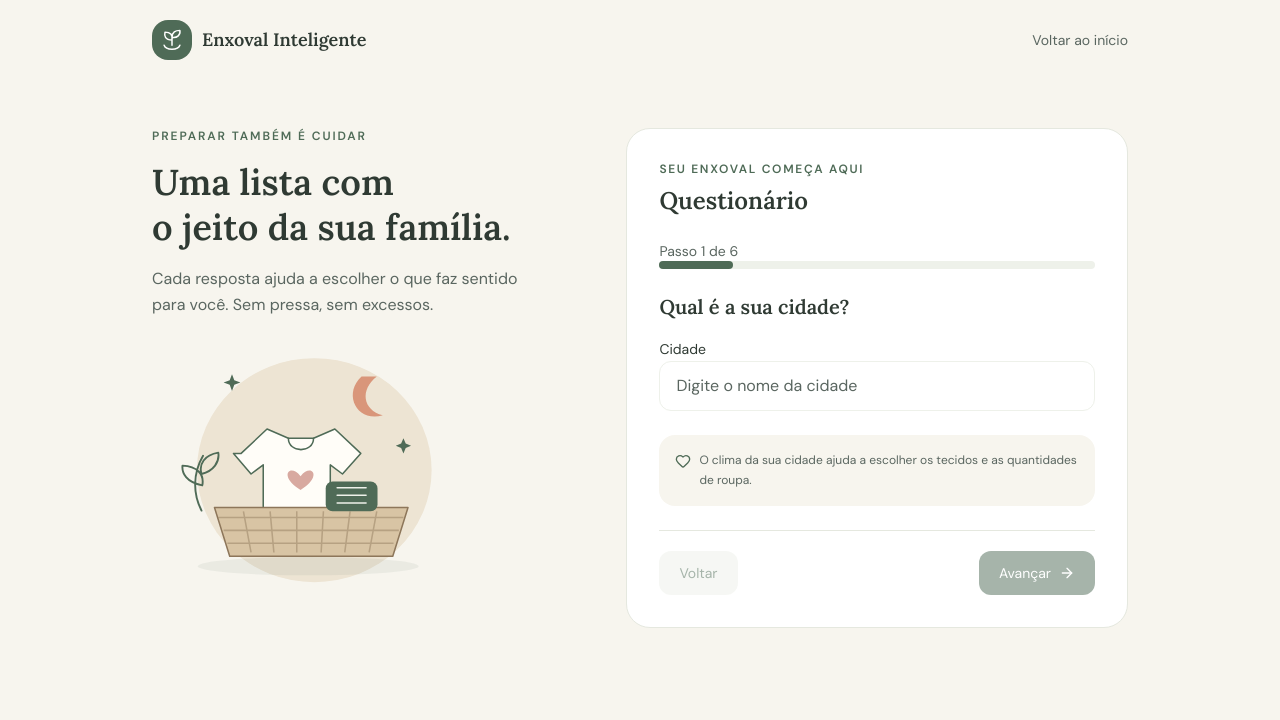
Test: Questionario › preserva a cidade escolhida ao avançar e voltar
Type "curitiba" into the field labelled "Cidade" at [877, 386], box [659,361,1095,411]
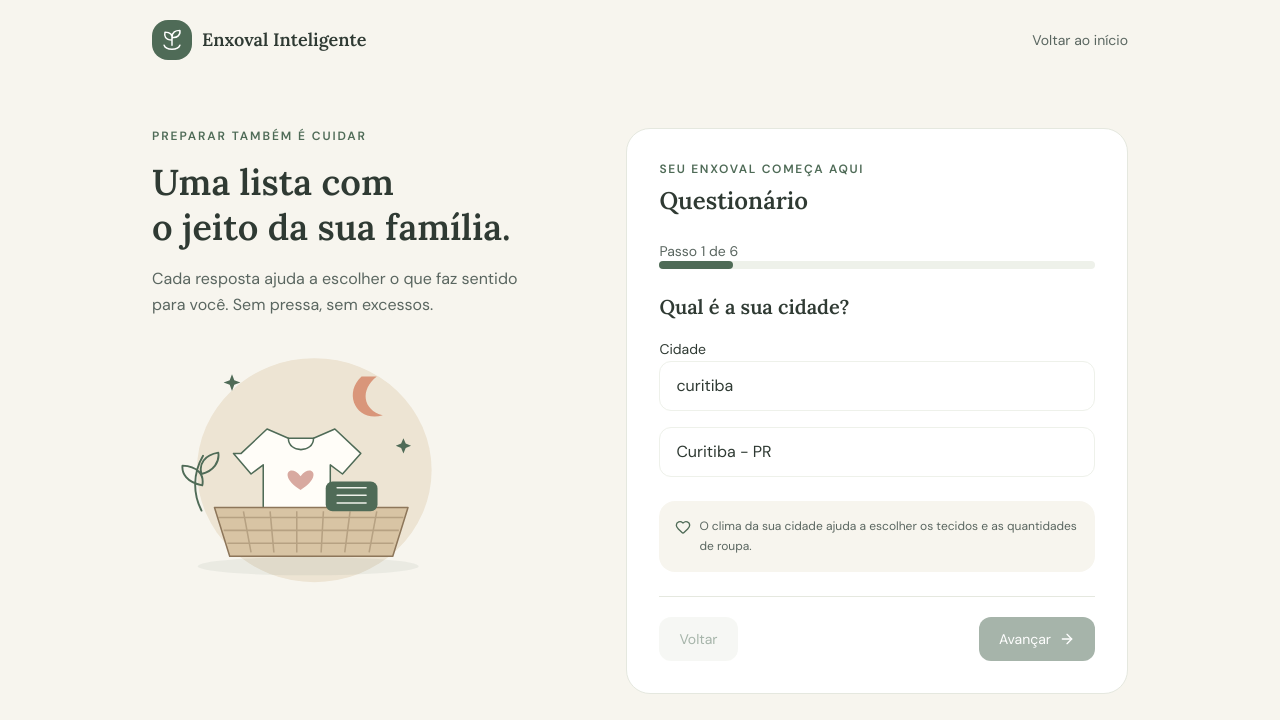
Now the button "Curitiba - PR" is shown
Click the button "Curitiba - PR" at [706, 452], box [660,428,1094,476]
(page scrolled)
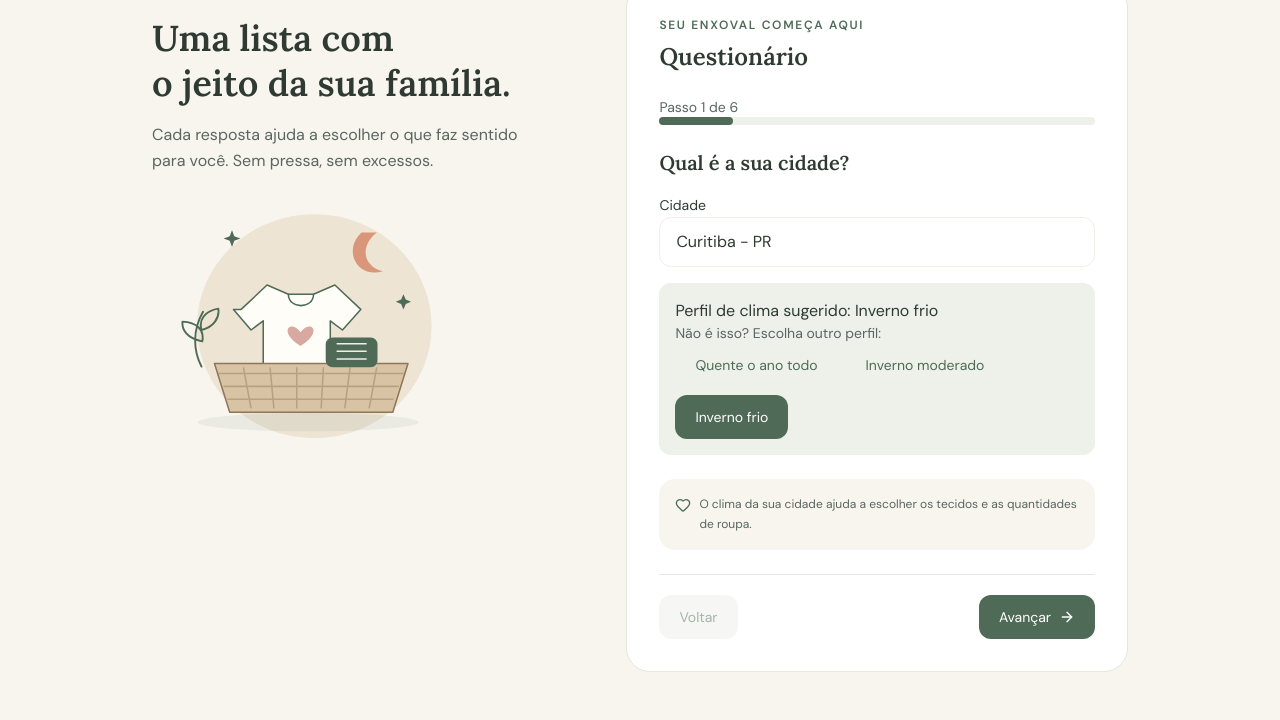
Click the button "Avançar" at [1037, 617], box [979,595,1095,639]
(page scrolled)
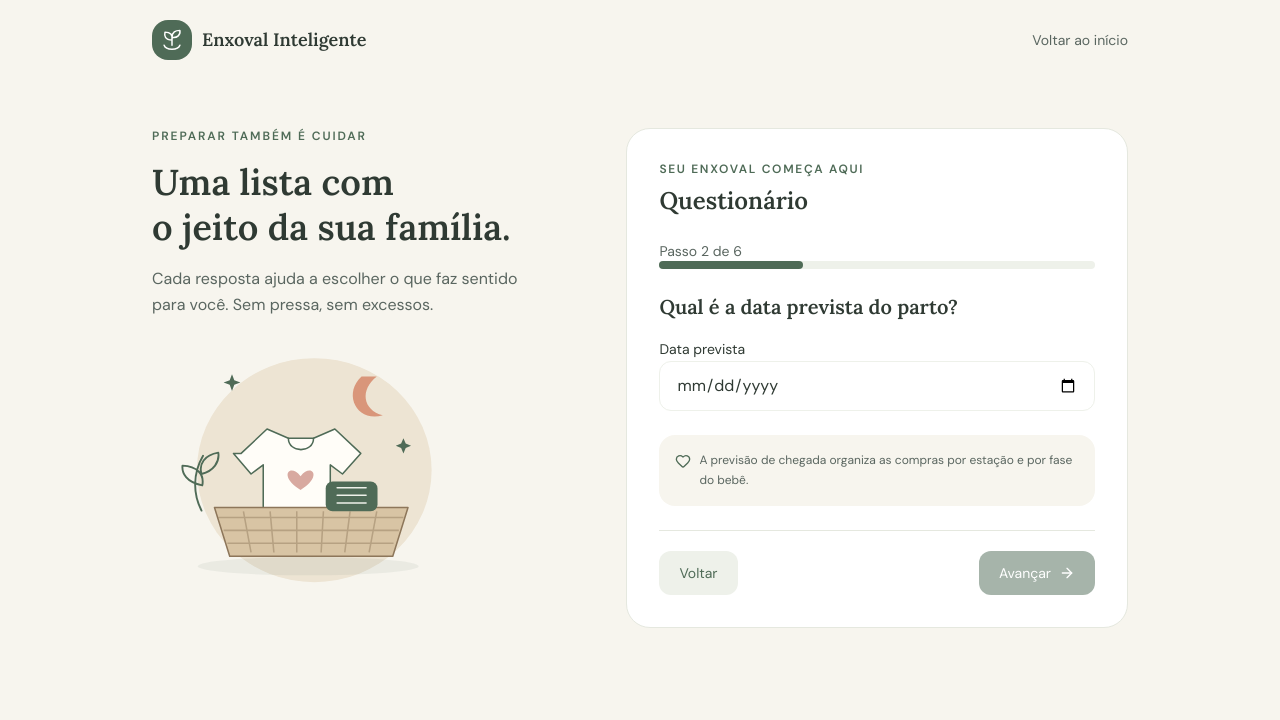
Now the text "Passo 2 de 6" is shown, box [659,242,742,260]
Click the button "Voltar" at [698, 573], box [659,551,738,595]
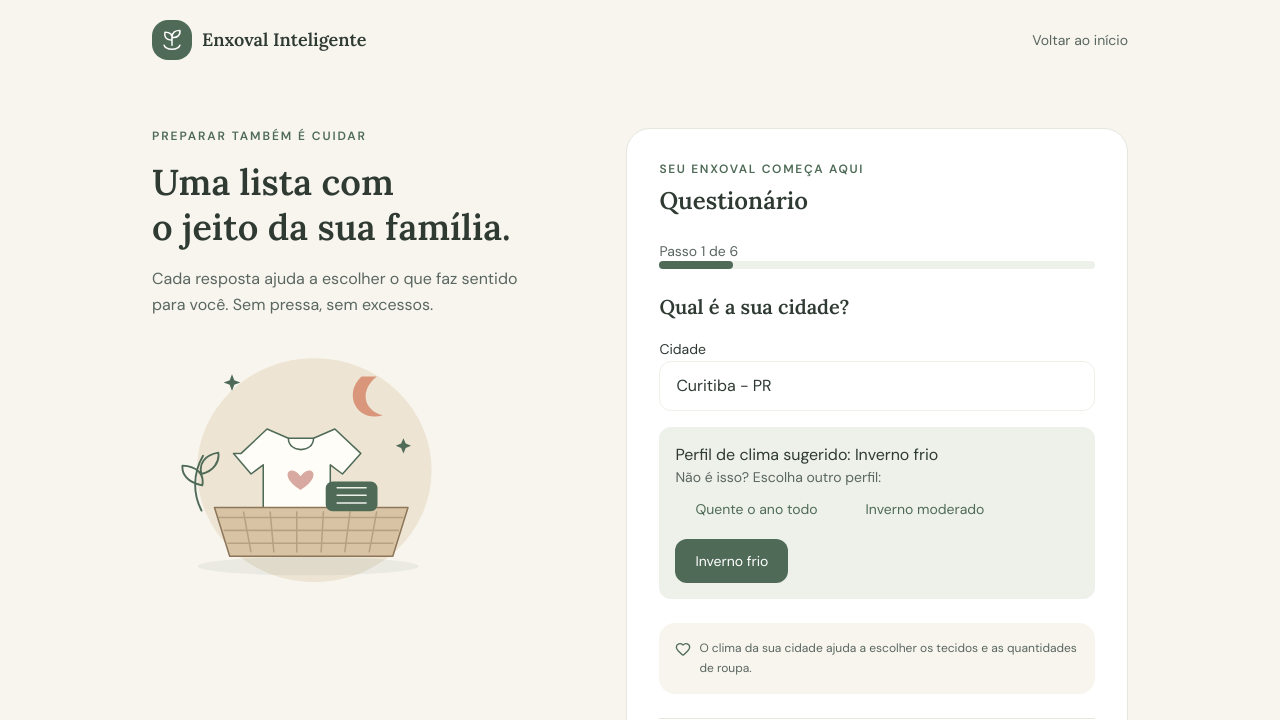
Now the field showing "Curitiba - PR" is shown, box [659,361,1095,411]
